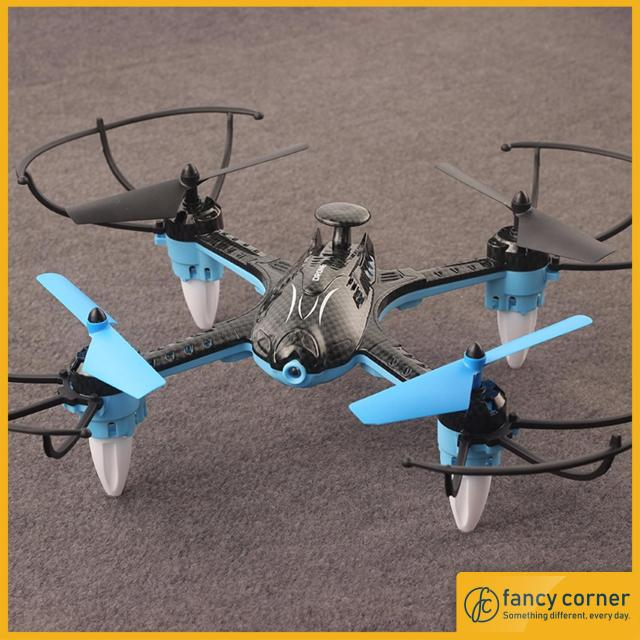drone: (0, 74, 640, 566)
